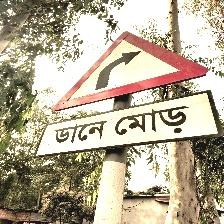Right-turn: (39, 30, 223, 156)
